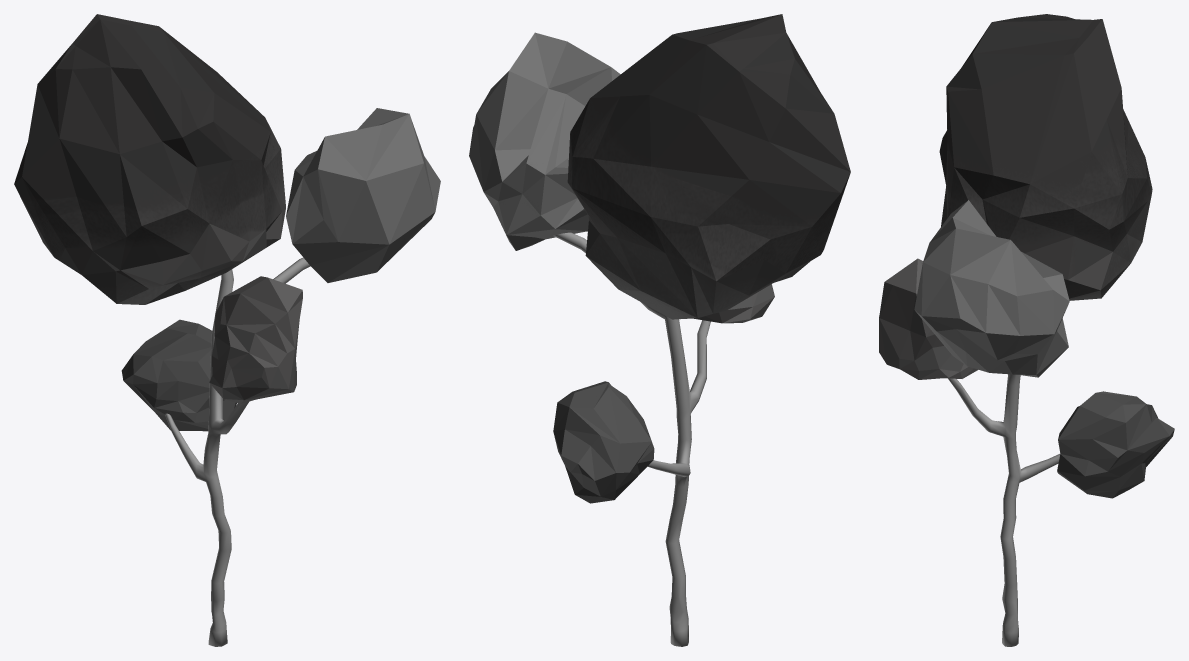
Rendered from SM_Tree_4.FBX.
The picture shows the model from 3 angles, left to right: view 1: azimuth 30°, elevation 25°; view 2: azimuth 150°, elevation 25°; view 3: azimuth 270°, elevation 25°; orthographic projection. The views are drawn at different scales.
Parts seen in each view (by area): view 1: Tree; view 2: Tree; view 3: Tree.
Part boxes in pixels (bbox=[...]): Tree: bbox=[14, 14, 440, 646]; Tree: bbox=[469, 14, 850, 646]; Tree: bbox=[879, 14, 1174, 646].
Size of the model in its own units: 168 by 256 by 116.
